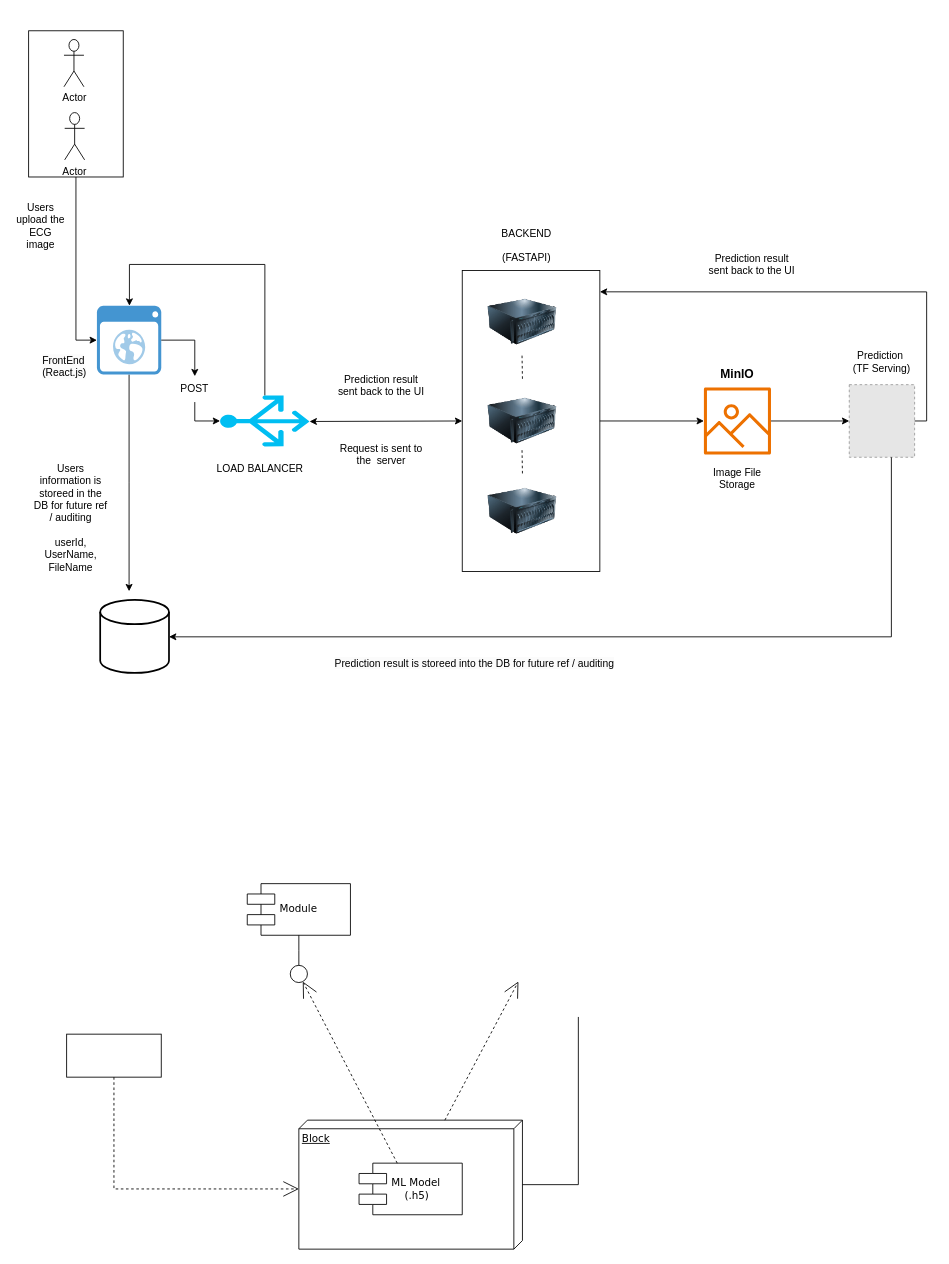
Image size: 949x1264. Some labels were removed from this diagram. Grey dashed boxes stand in for pictures. Here are the shapes that lost their labels. From the top down, the centre of each, then its label:
(134,636): DB
(113,1055): «UI Interface» Name
